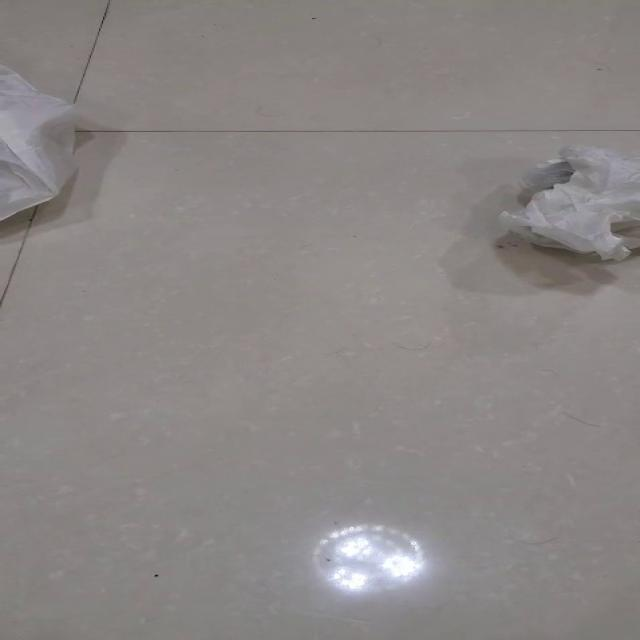plastic: (496, 144, 638, 261), (0, 63, 79, 222)
